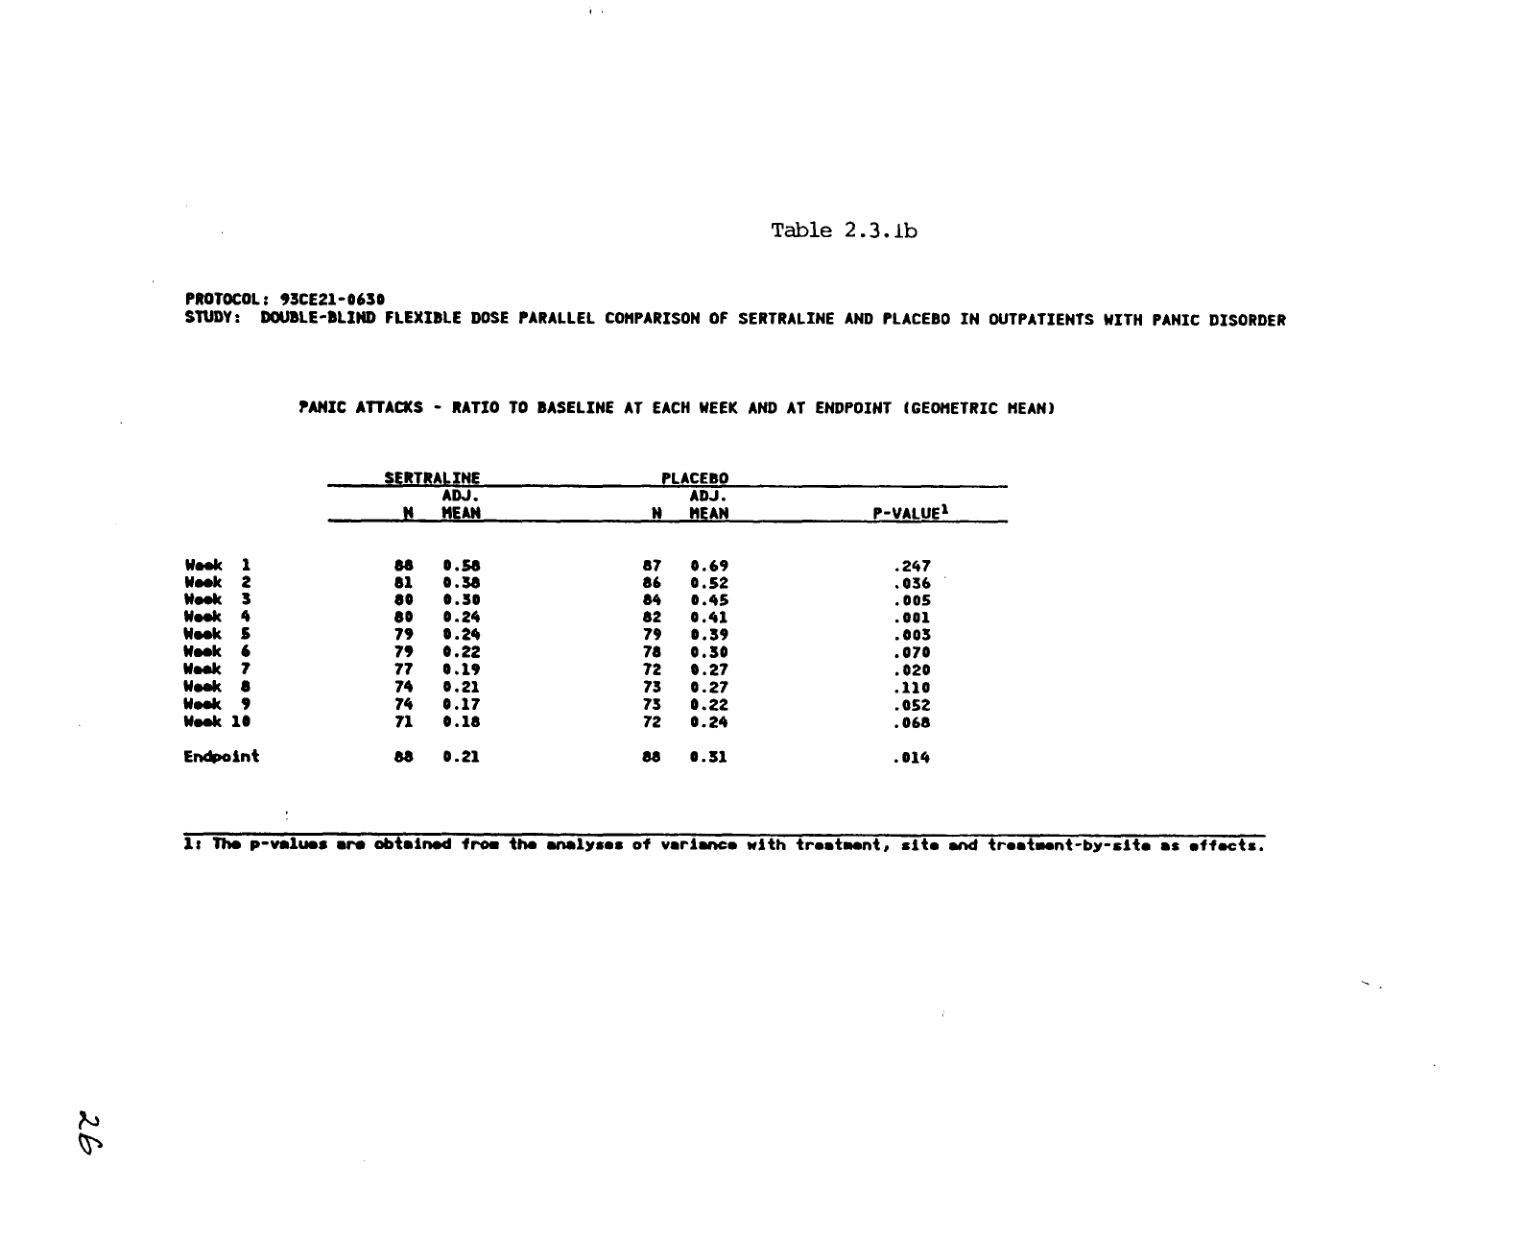partial_lined_merged_cells: (178, 468, 1008, 767)
